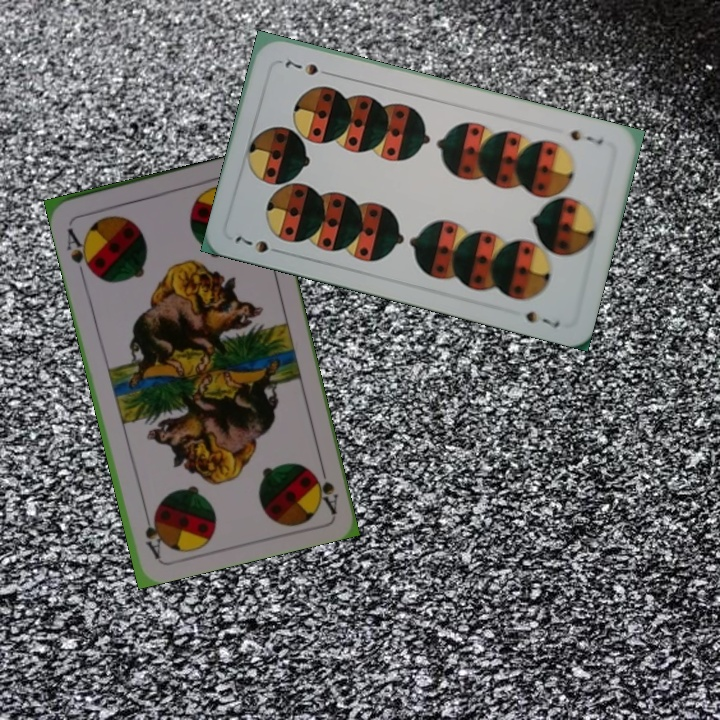S7: (231, 231, 272, 256), (566, 125, 606, 148)
SA: (308, 457, 341, 515), (62, 219, 96, 275)
